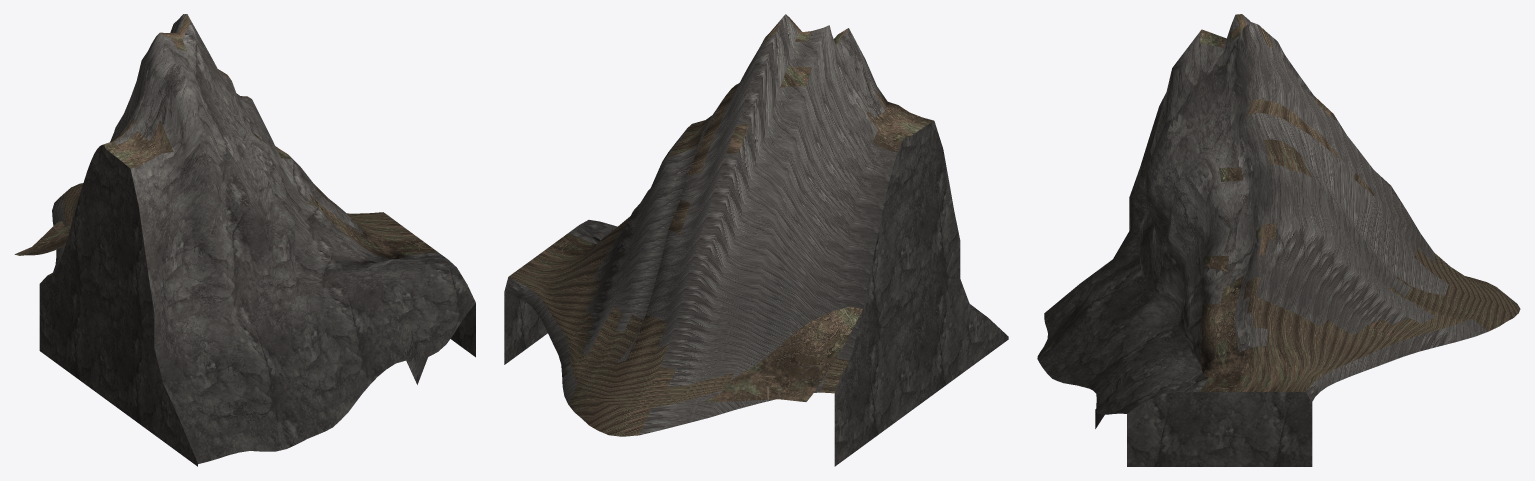
File: seacliff_endcap_right_h3_b_v5_autumn.glb
3 renders of one model, left to right at view 1: azimuth 30°, elevation 25°; view 2: azimuth 150°, elevation 25°; view 3: azimuth 270°, elevation 25°, orthographic. The views are drawn at different scales.
Visible parts, largest first — view 1: seacliff_endcap_right_h3_b; view 2: seacliff_endcap_right_h3_b; view 3: seacliff_endcap_right_h3_b.
Part boxes in pixels (box(x1,y1,x2,y2)): seacliff_endcap_right_h3_b: box(14, 14, 475, 466); seacliff_endcap_right_h3_b: box(504, 14, 1008, 466); seacliff_endcap_right_h3_b: box(1037, 14, 1520, 466).
Size of the model in its own units: 6 by 6.31 by 8.11.
2 materials, 2 textured.
